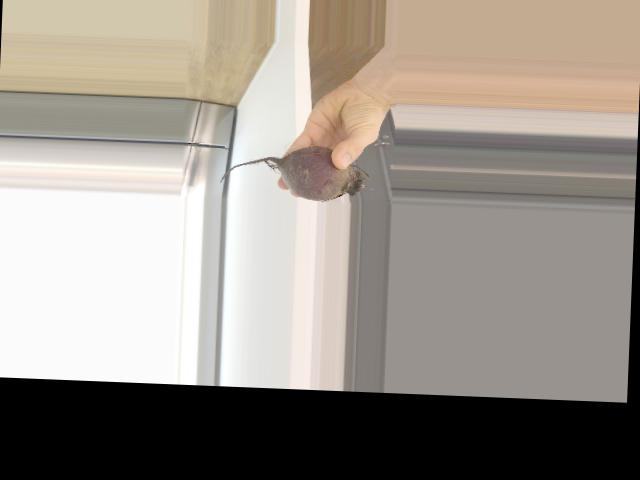beet: (219, 143, 370, 203)
